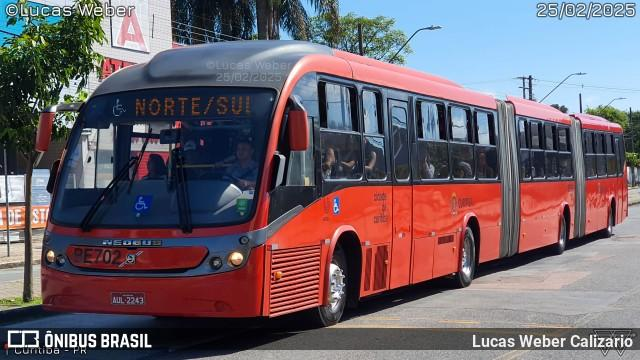NORTE SUL: (130, 92, 254, 119)
